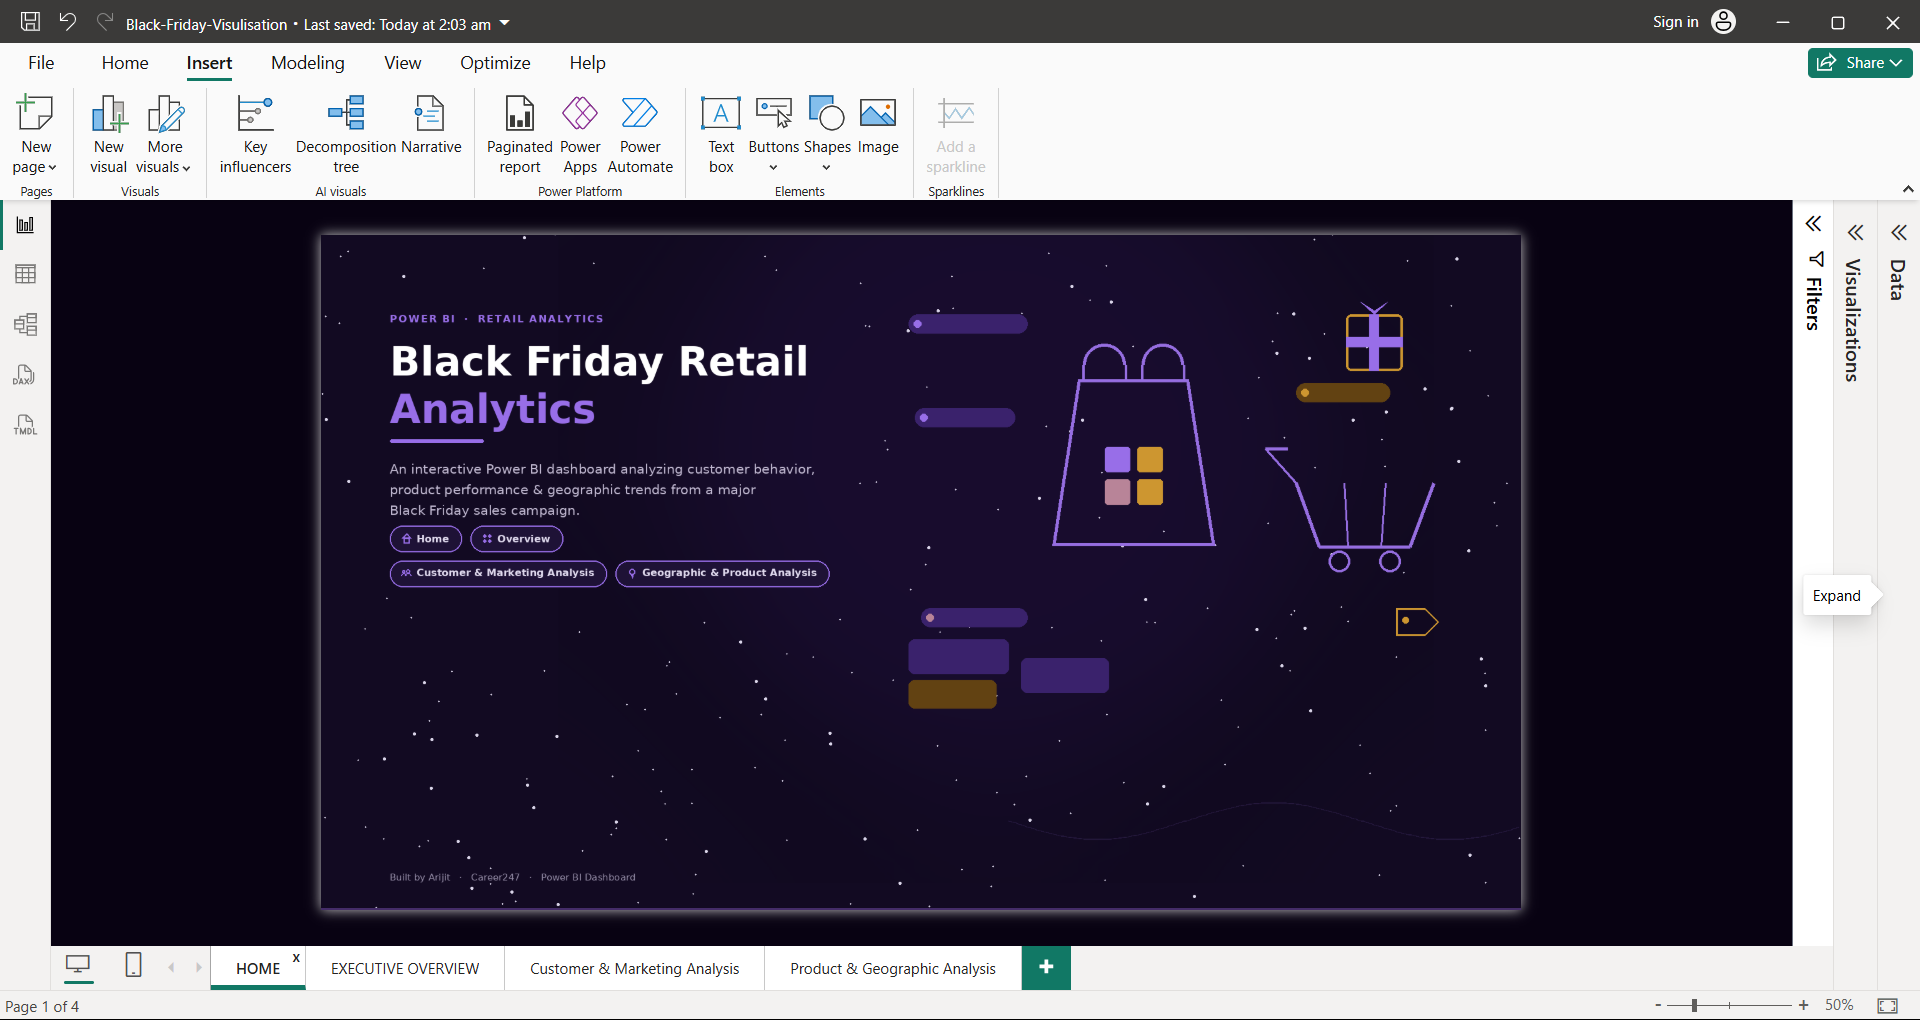

The dashboard page shown, as its layout file describes it:
{"tool":"powerbi","page":{"name":"HOME","canvas":[1920,1080],"ordinal":0},"visuals":[{"type":"actionButton","box":[112.2,466.9,112.2,38],"z":0},{"type":"actionButton","box":[242.5,466.9,141.2,38],"z":1000},{"type":"actionButton","box":[112.2,521.2,342,43.4],"z":2000},{"type":"actionButton","box":[477.8,521.2,331.2,43.4],"z":3000}]}

Visuals, with their boxes on the page's 1920x1080 design canvas (x1, y1, x2, y2). These are canvas units, not pixel positions in the 1920x1020 screenshot, which may show the page scaled, cropped or inside an application window:
actionButton: [112, 467, 224, 505]
actionButton: [242, 467, 384, 505]
actionButton: [112, 521, 454, 565]
actionButton: [478, 521, 809, 565]
